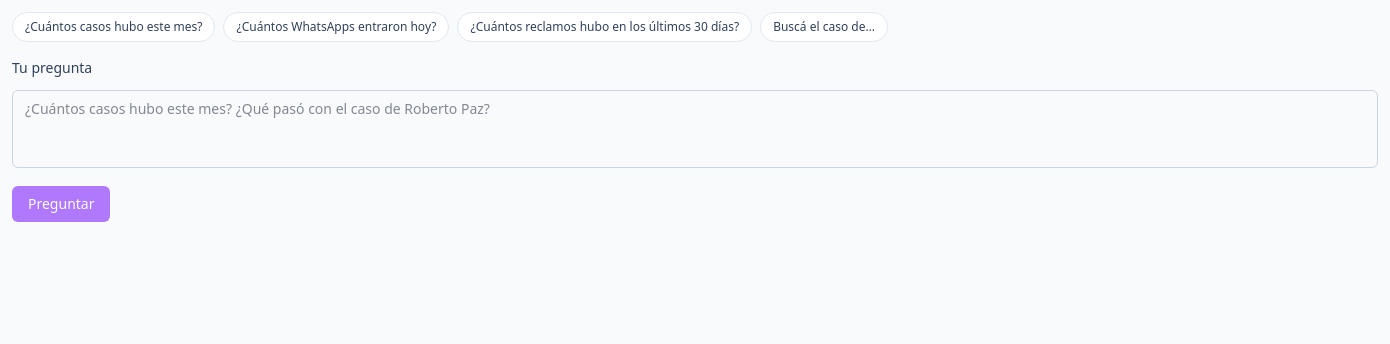
Test: CajaDelAsistente › con un solo caso encontrado, avisa que el resumen es de IA
Click the button "¿Cuántos casos hubo este mes?".
click(114, 27)  # box [12, 12, 216, 42]
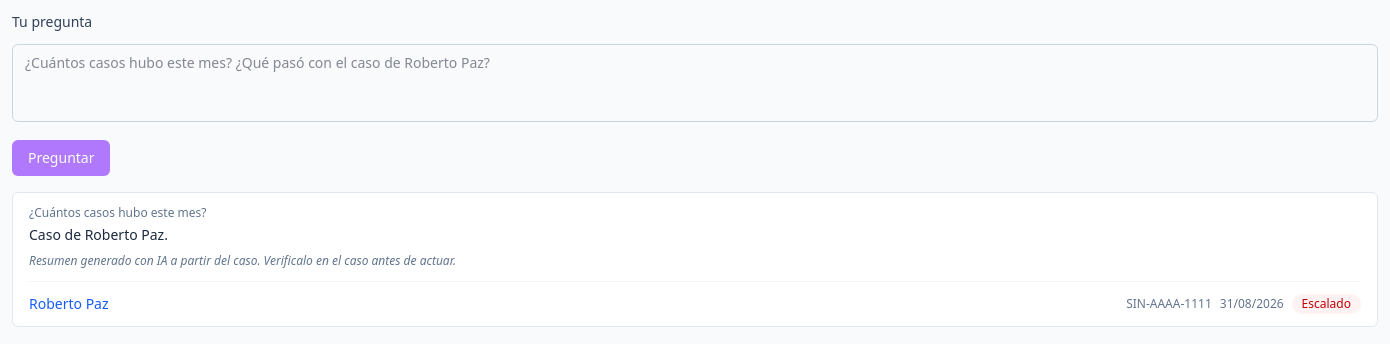
Result: the link "Roberto Paz" is shown at [29, 294, 108, 314]
Result: the text "Resumen generado con IA a partir del caso. Verificalo en el caso antes de actuar." is shown at [29, 252, 456, 269]
